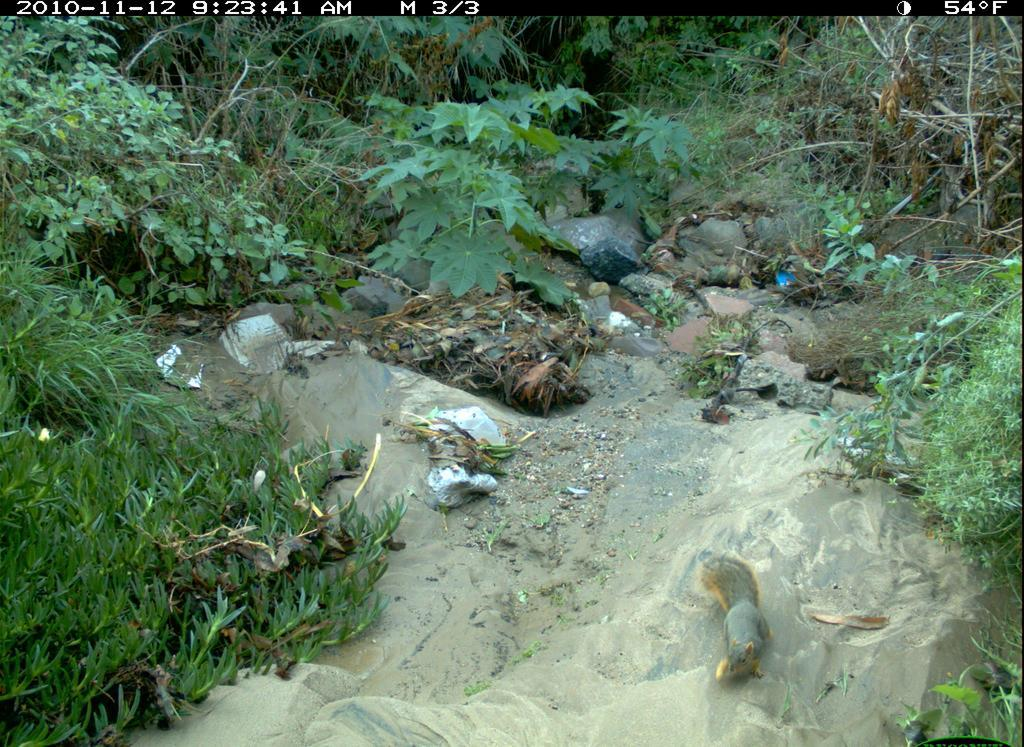squirrel: (696, 550, 793, 693)
